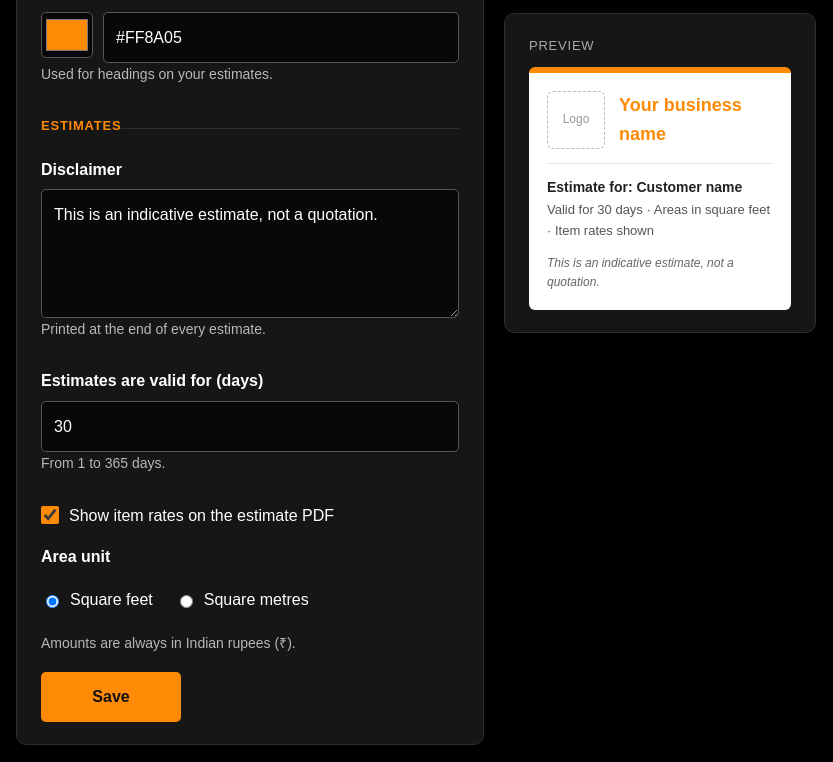
it: Settings › Business profile (#30) › explains a failed save
(page scrolled)
Click the button "Save".
click(111, 697)  # box top-left (41, 672), bottom-right (181, 722)
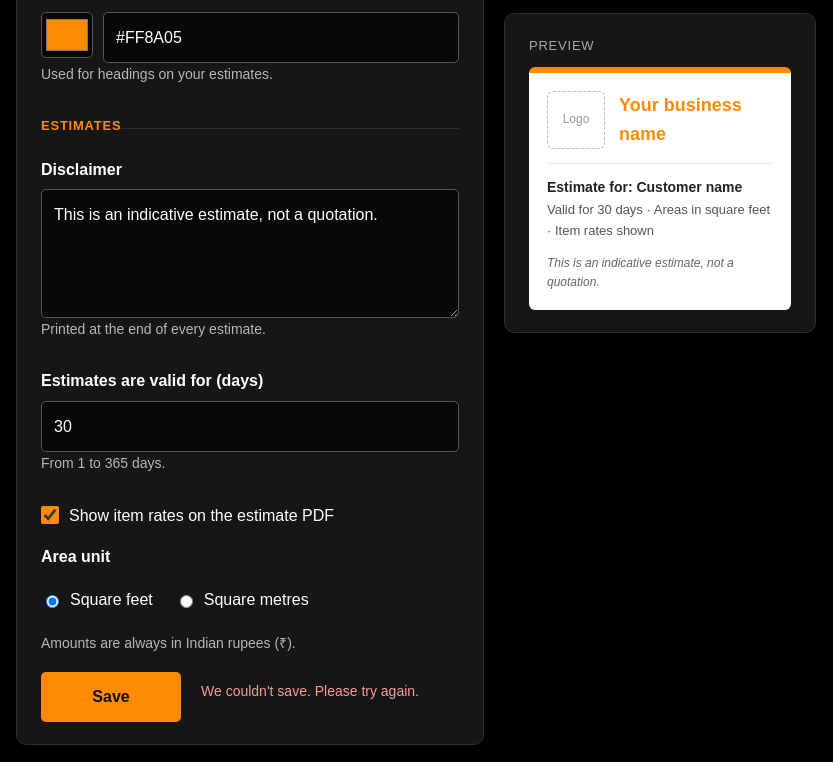
Expected: the message shows "couldn't save", top-left (201, 683), bottom-right (419, 699)
